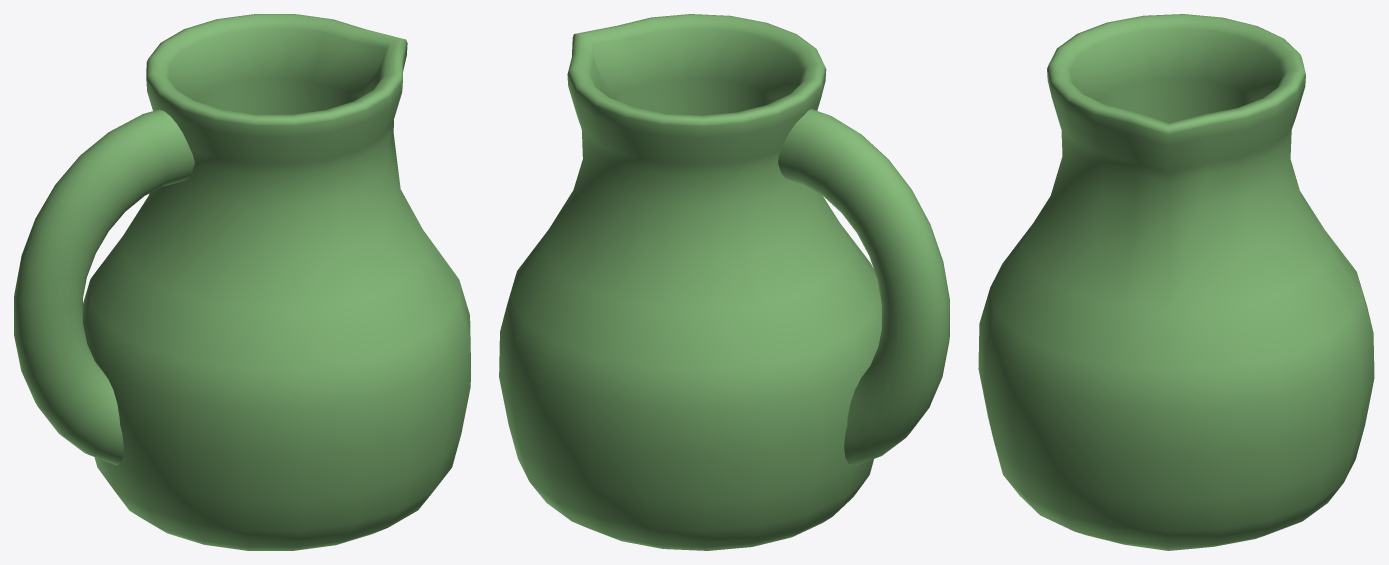
Rendered from Renown_simplejug3.fbx.
3 views of the same model, side by side, from view 1: azimuth 30°, elevation 25°; view 2: azimuth 150°, elevation 25°; view 3: azimuth 270°, elevation 25° (orthographic).
Visible parts, largest first — view 1: JUG_3; view 2: JUG_3; view 3: JUG_3.
Part boxes in pixels (x1=…): JUG_3: x1=14, y1=14, x2=470, y2=550; JUG_3: x1=499, y1=14, x2=949, y2=550; JUG_3: x1=978, y1=14, x2=1374, y2=550.
Bounding box in the file's own units: 36.9 × 35.63 × 29.79.
